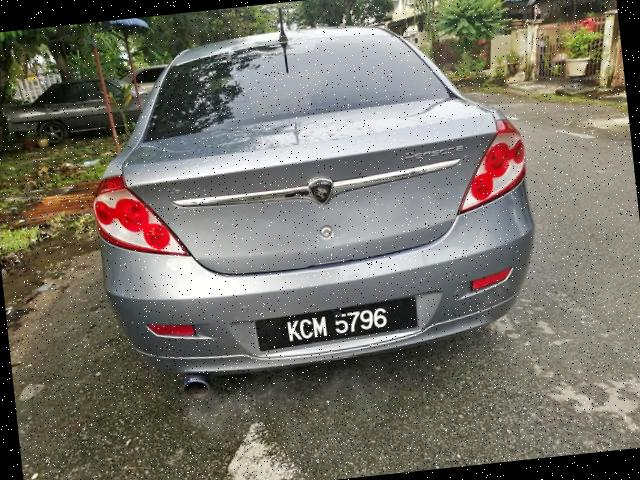License_Plate: (261, 307, 414, 350)
car: (73, 3, 549, 404)
